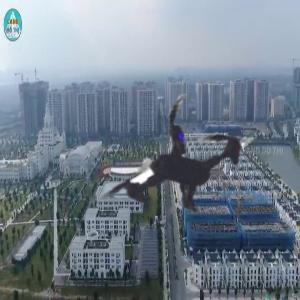drone: (46, 37, 300, 291)
